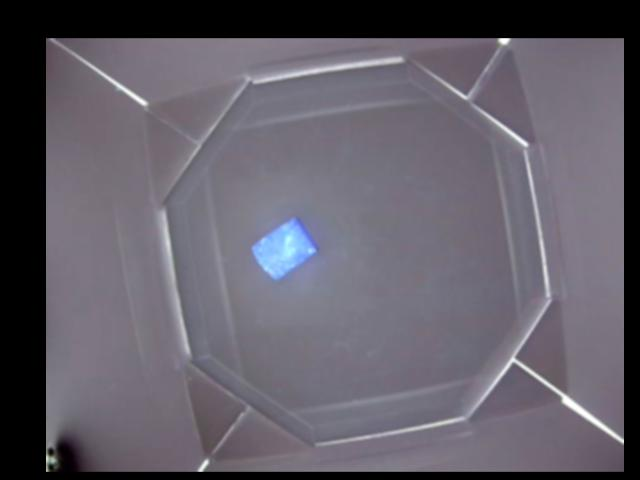Potato: (249, 216, 317, 282)
